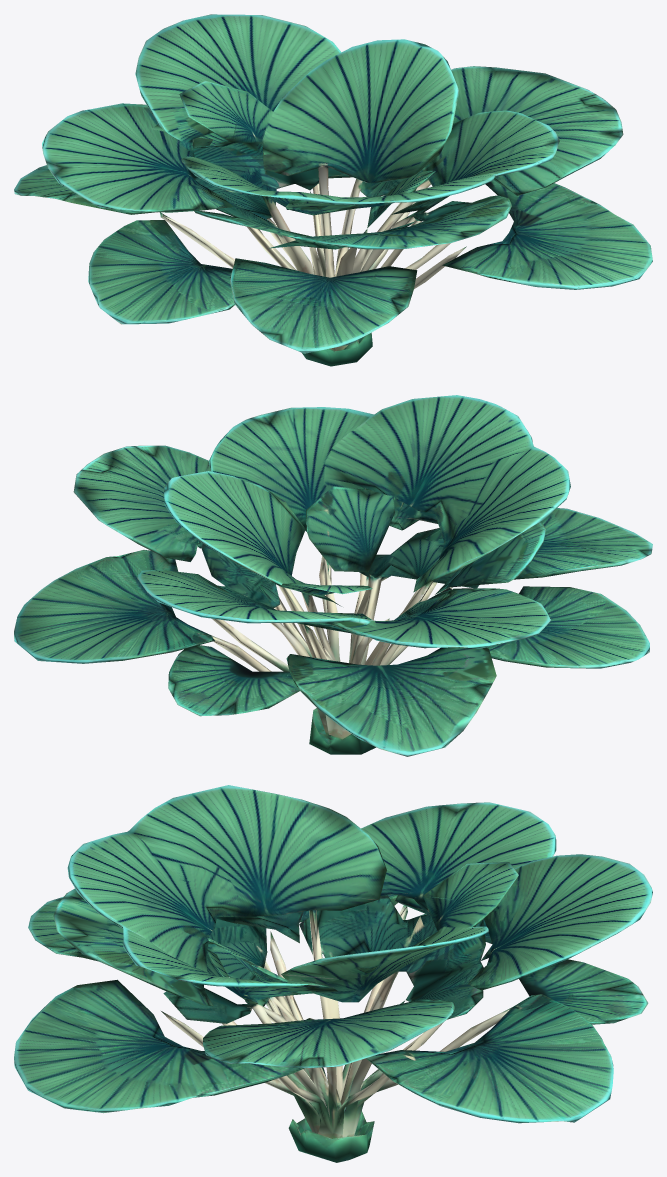
The picture shows the model from 3 angles, top to bottom: view 1: azimuth 30°, elevation 25°; view 2: azimuth 150°, elevation 25°; view 3: azimuth 270°, elevation 25°; orthographic projection. The views are drawn at different scales.
Parts seen in each view (by area): view 1: Mesh_0; view 2: Mesh_0; view 3: Mesh_0.
Boxes of the visible parts, box(x1,y1,x2,y2) form: Mesh_0: box(14, 14, 652, 366); Mesh_0: box(14, 395, 652, 756); Mesh_0: box(14, 785, 652, 1162).
Bounding box in the file's own units: 1.91 × 0.876 × 1.84.
1 material, 1 textured.
